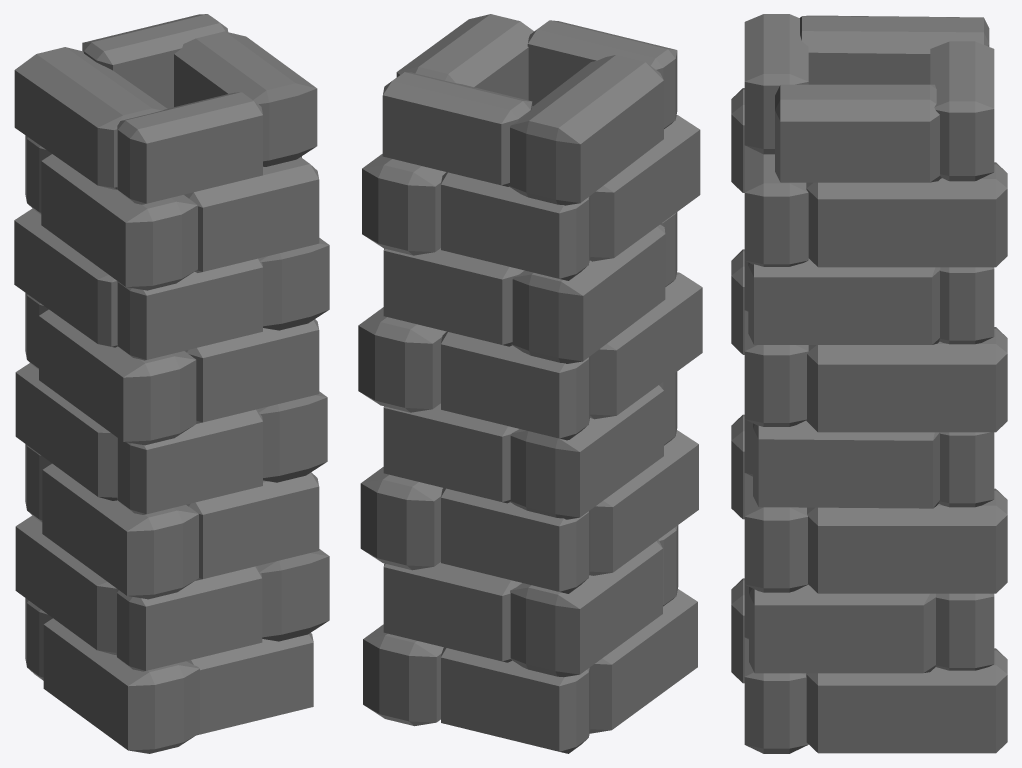
Rendered from DungeonWallPillar.fbx.
3 renders of one model, left to right at view 1: azimuth 30°, elevation 25°; view 2: azimuth 150°, elevation 25°; view 3: azimuth 270°, elevation 25°, orthographic. The views are drawn at different scales.
Visible parts, largest first — view 1: DungeonWallPillar; view 2: DungeonWallPillar; view 3: DungeonWallPillar.
Part boxes in pixels (left/top/right/bottom): DungeonWallPillar: left=14, top=14, right=329, bottom=753; DungeonWallPillar: left=358, top=14, right=702, bottom=753; DungeonWallPillar: left=731, top=14, right=1007, bottom=753.
Bounding box in the file's own units: 131 × 356 × 136.
Materials: 1 (1 with a texture image).
